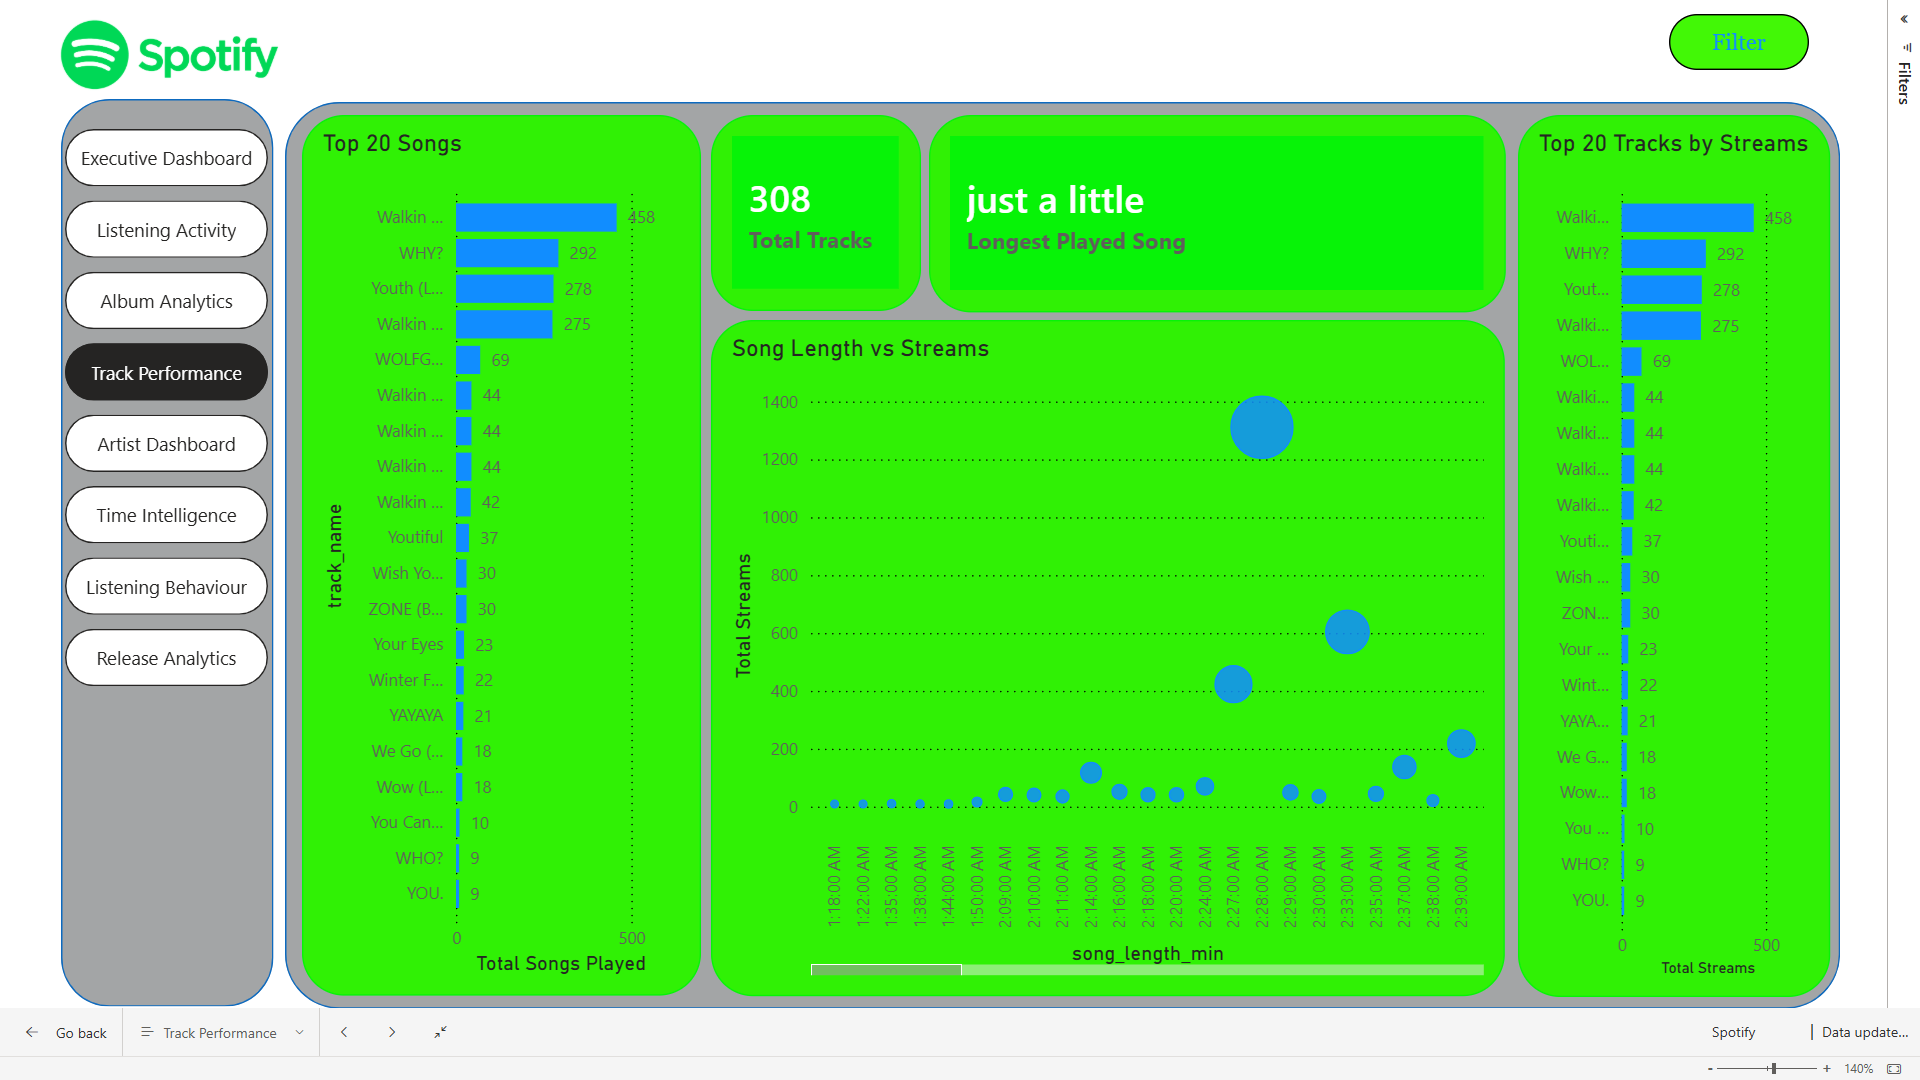

What the dashboard file says about the page in this screenshot:
{"tool":"powerbi","page":{"name":"Track Performance","canvas":[1280,720],"ordinal":3},"visuals":[{"type":"image","title":"Brand Name","box":[8.2,3.6,158.2,70.9],"z":0},{"type":"shape","box":[9,70.7,151.7,648.4],"z":0,"group":"g2"},{"type":"shape","box":[169,72.7,1110.7,647.6],"z":0,"group":"g1"},{"type":"barChart","title":"Top 20 Tracks by Streams","fields":{"Category":["spotify_skz_counts_album.track_name"],"Y":["Custome Measure.Total Streams"]},"box":[1049.6,81.7,222.7,629.9],"z":62,"group":"g1"},{"type":"barChart","title":"Top 20 Songs\n","fields":{"Category":["spotify_skz_counts_album.track_name"],"Y":["Custome Measure.Total Songs Played"]},"box":[181.3,81.7,285.3,628.8],"z":500,"group":"g1"},{"type":"group","id":"g1","title":"Main","box":[169,72.7,1110.7,647.6],"z":1000},{"type":"pageNavigator","box":[11.7,92.2,146,403],"z":1000,"group":"g2"},{"type":"scatterChart","title":"Song Length vs Streams","fields":{"Size":["Custome Measure.Listening Hours"],"X":["spotify_skz_counts_album.song_length_min"],"Y":["Custome Measure.Total Streams"]},"box":[473.4,228.5,567.3,483.4],"z":1000,"group":"g1"},{"type":"cardVisual","fields":{"Data":["Custome Measure.Total Tracks"]},"box":[473.3,81.7,149.9,139.9],"z":1250,"group":"g1"},{"type":"cardVisual","fields":{"Data":["Custome Measure.Longest Played Song"]},"box":[628.9,81.7,411.7,141],"z":1500,"group":"g1"},{"type":"actionButton","title":"Filter","box":[1158,9.8,100,40],"z":3000},{"type":"group","id":"g2","title":"Navigation","box":[9,70.7,151.7,648.4],"z":4000}]}

Visuals, with their boxes on the page's 1280x720 design canvas (x1, y1, x2, y2). These are canvas units, not pixel positions in the 1920x1080 screenshot, which may show the page scaled, cropped or inside an application window:
"Brand Name" image: (8, 4, 166, 74)
shape: (9, 71, 161, 719)
shape: (169, 73, 1280, 720)
"Top 20 Tracks by Streams" barChart: (1050, 82, 1272, 712)
"Top 20 Songs
" barChart: (181, 82, 467, 710)
"Main" group: (169, 73, 1280, 720)
pageNavigator: (12, 92, 158, 495)
"Song Length vs Streams" scatterChart: (473, 228, 1041, 712)
cardVisual - Custome Measure.Total Tracks: (473, 82, 623, 222)
cardVisual - Custome Measure.Longest Played Song: (629, 82, 1041, 223)
"Filter" actionButton: (1158, 10, 1258, 50)
"Navigation" group: (9, 71, 161, 719)
